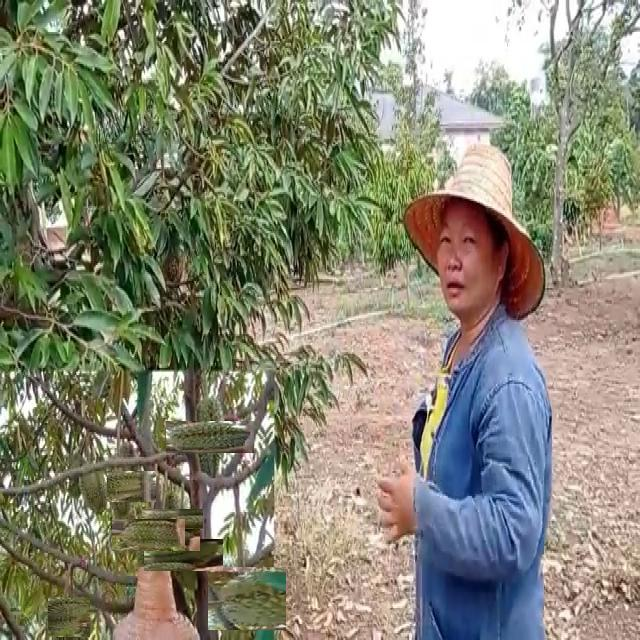durian: (212, 563, 283, 634), (180, 407, 240, 468), (156, 527, 212, 583), (122, 509, 176, 562), (96, 461, 146, 512), (144, 518, 190, 562), (76, 456, 107, 517), (48, 596, 89, 638), (152, 499, 193, 540)
